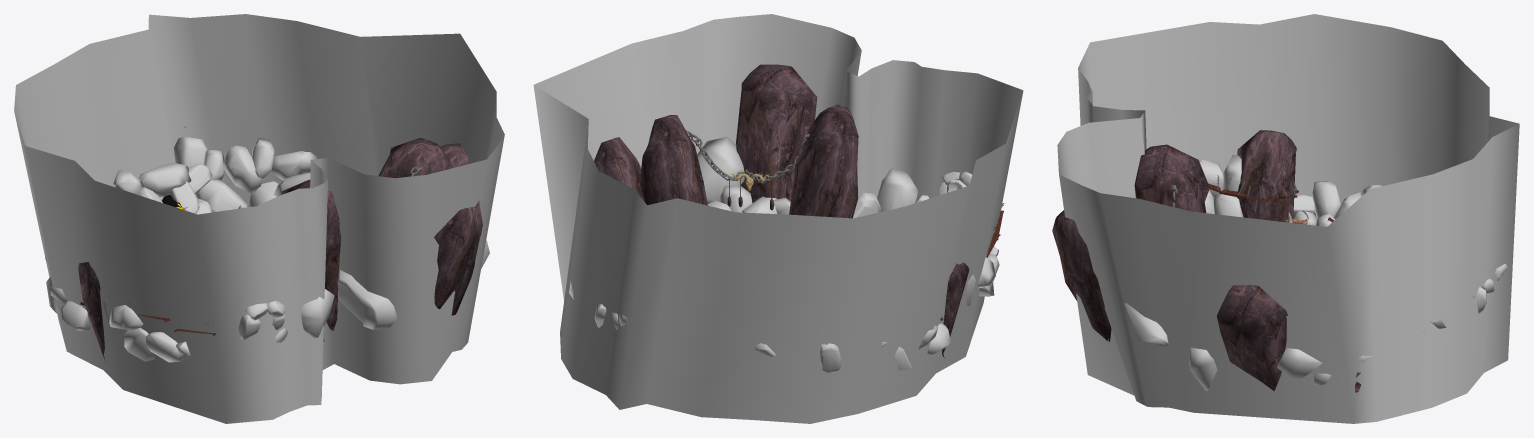
The model's file is MapPass4Comb.fbx.
The picture shows the model from 3 angles, left to right: view 1: azimuth 30°, elevation 25°; view 2: azimuth 150°, elevation 25°; view 3: azimuth 270°, elevation 25°; orthographic projection. The views are drawn at different scales.
Parts seen in each view (by area): view 1: top21; view 2: top21; view 3: top21.
Boxes of the visible parts, x1,y1,x2,y2 form: top21: (14,14,504,423); top21: (533,14,1023,423); top21: (1052,14,1519,423).
Bounding box in the file's own units: 3328 × 1664 × 3087.
